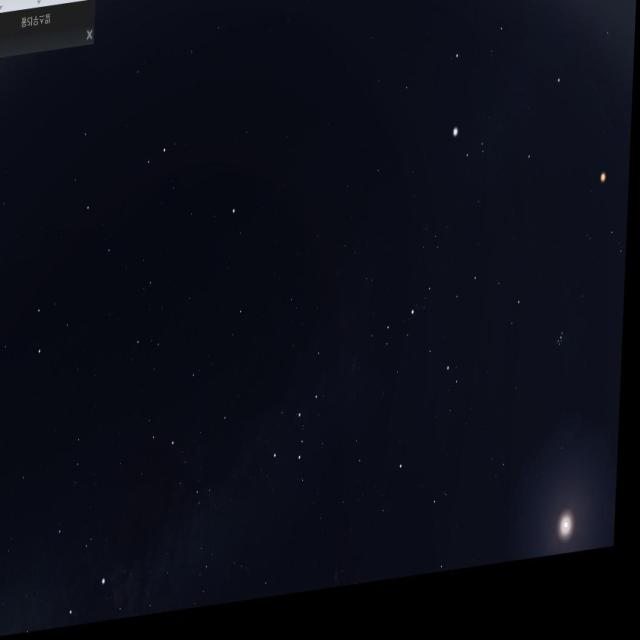cassiopeia: (264, 350, 335, 492)
moon: (534, 470, 606, 576)
pleiades: (554, 334, 576, 382)
